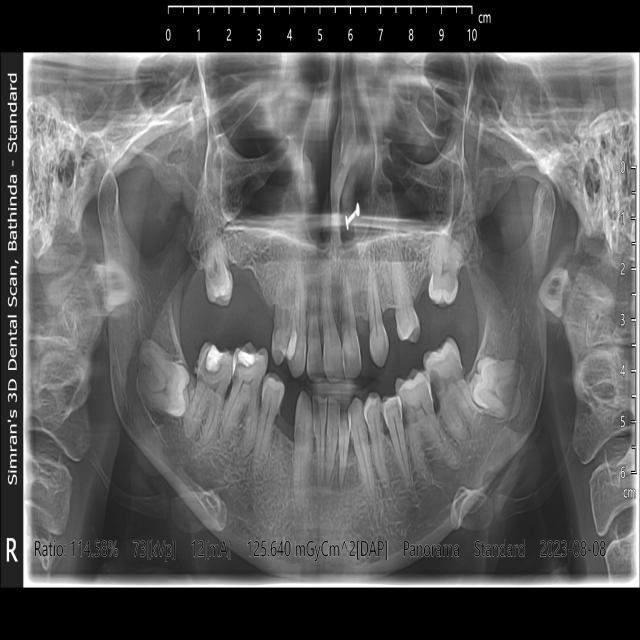impacted tooth: (136, 339, 190, 417), (470, 356, 524, 421)
